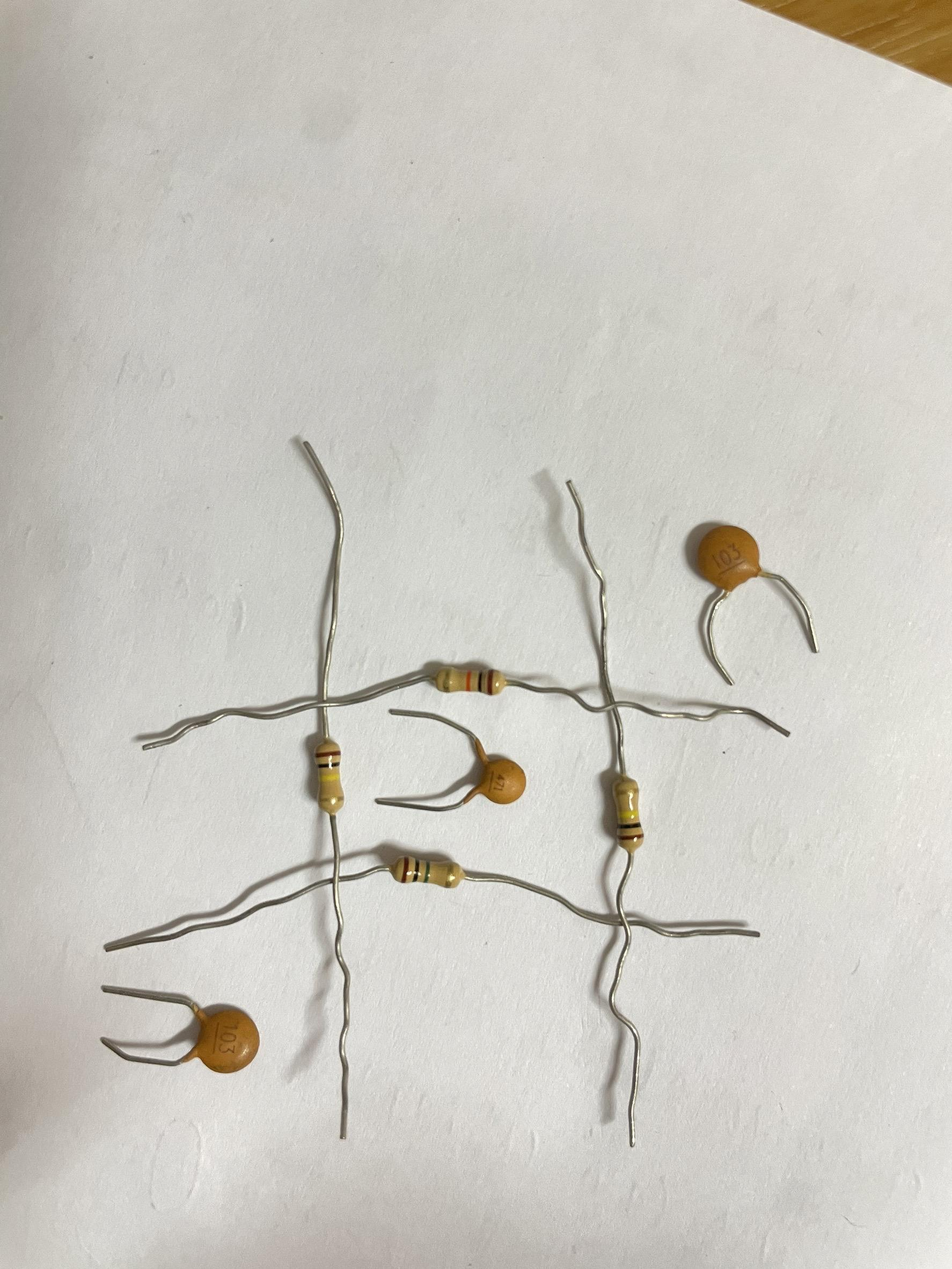resistor: (313, 740, 348, 813), (392, 853, 465, 888), (613, 777, 647, 851), (435, 662, 508, 693)
